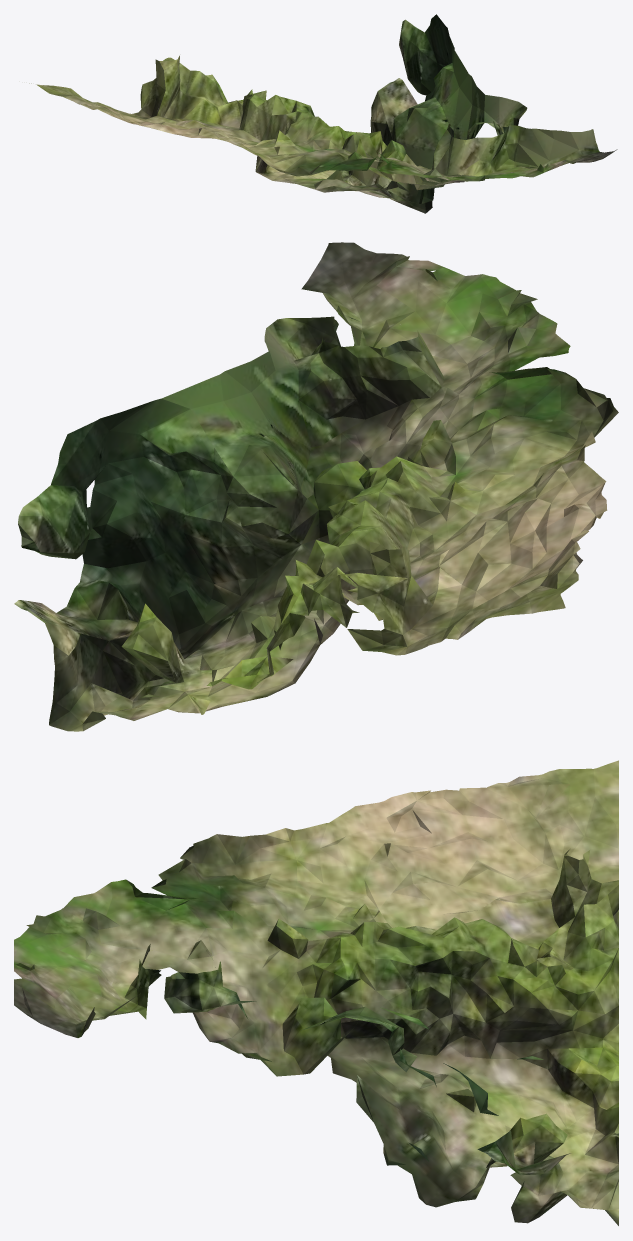
3 renders of one model, top to bottom at view 1: azimuth 30°, elevation 25°; view 2: azimuth 150°, elevation 25°; view 3: azimuth 270°, elevation 25°, orthographic. The views are drawn at different scales.
Bounding box in the file's own units: 25.88 × 11.13 × 26.11.
Materials: 3 (3 with a texture image).
